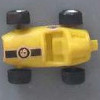amarillo_oeste: (3, 10, 97, 82)
